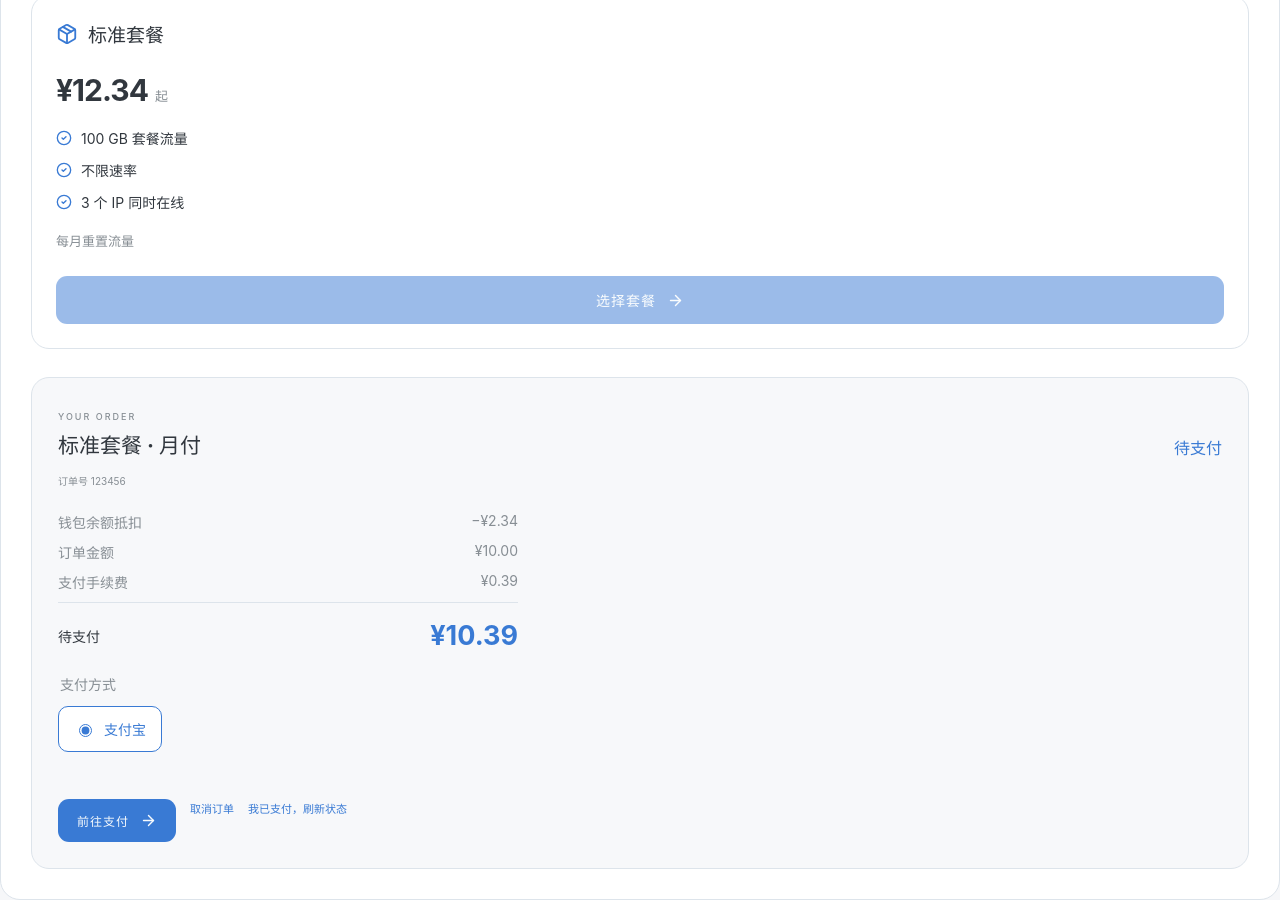
Test case: 打开支付页不视为成功，只有服务器已开通才同步权益
(page scrolled)
Click the button "前往支付".
click(117, 821)  # box [58,800,176,842]
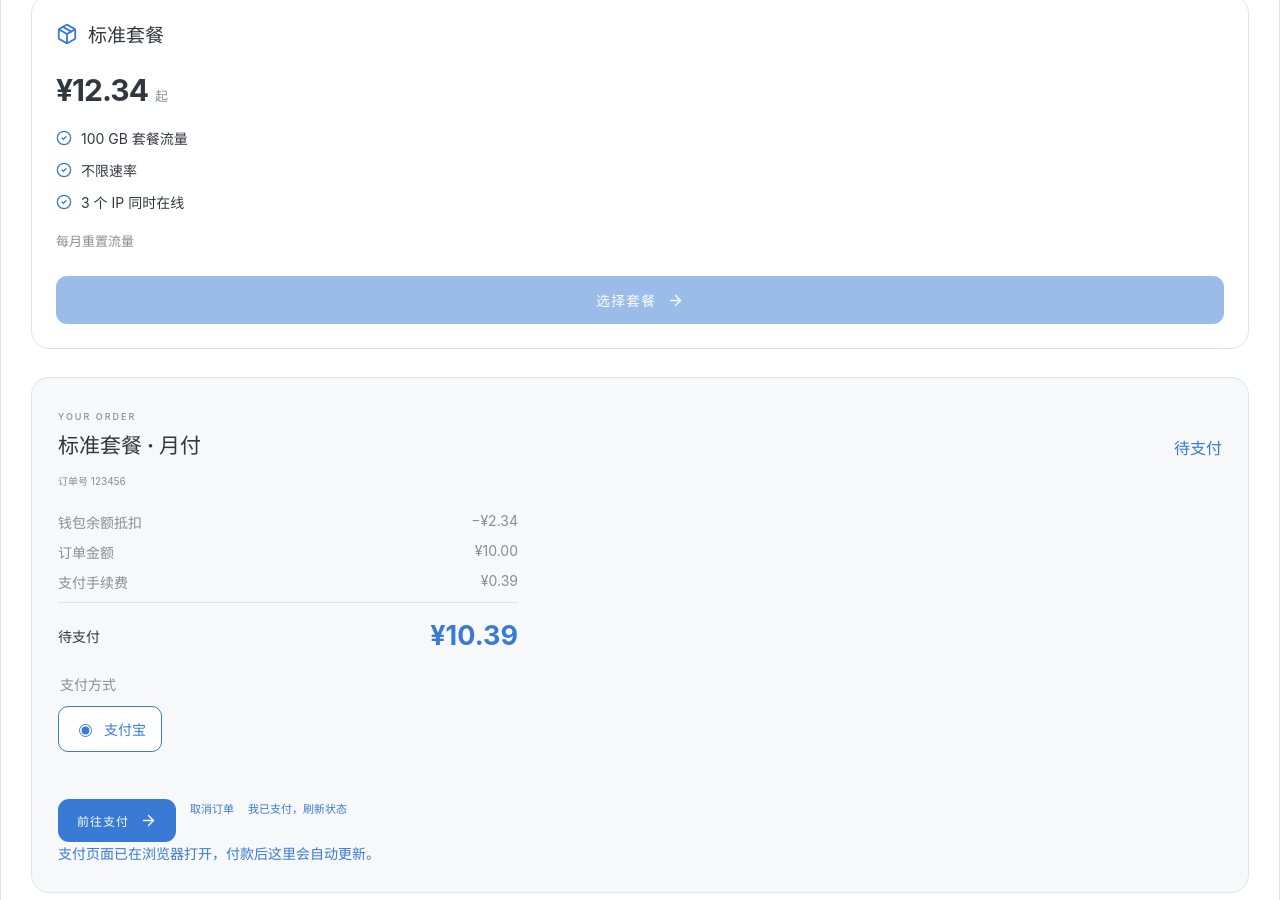
expect the text "支付页面已在浏览器打开，付款后这里会自动更新。" is shown: met, box [58,846,380,862]
Click the button "我已支付，刷新状态".
click(298, 808)  # box [248,786,347,830]
(page scrolled)
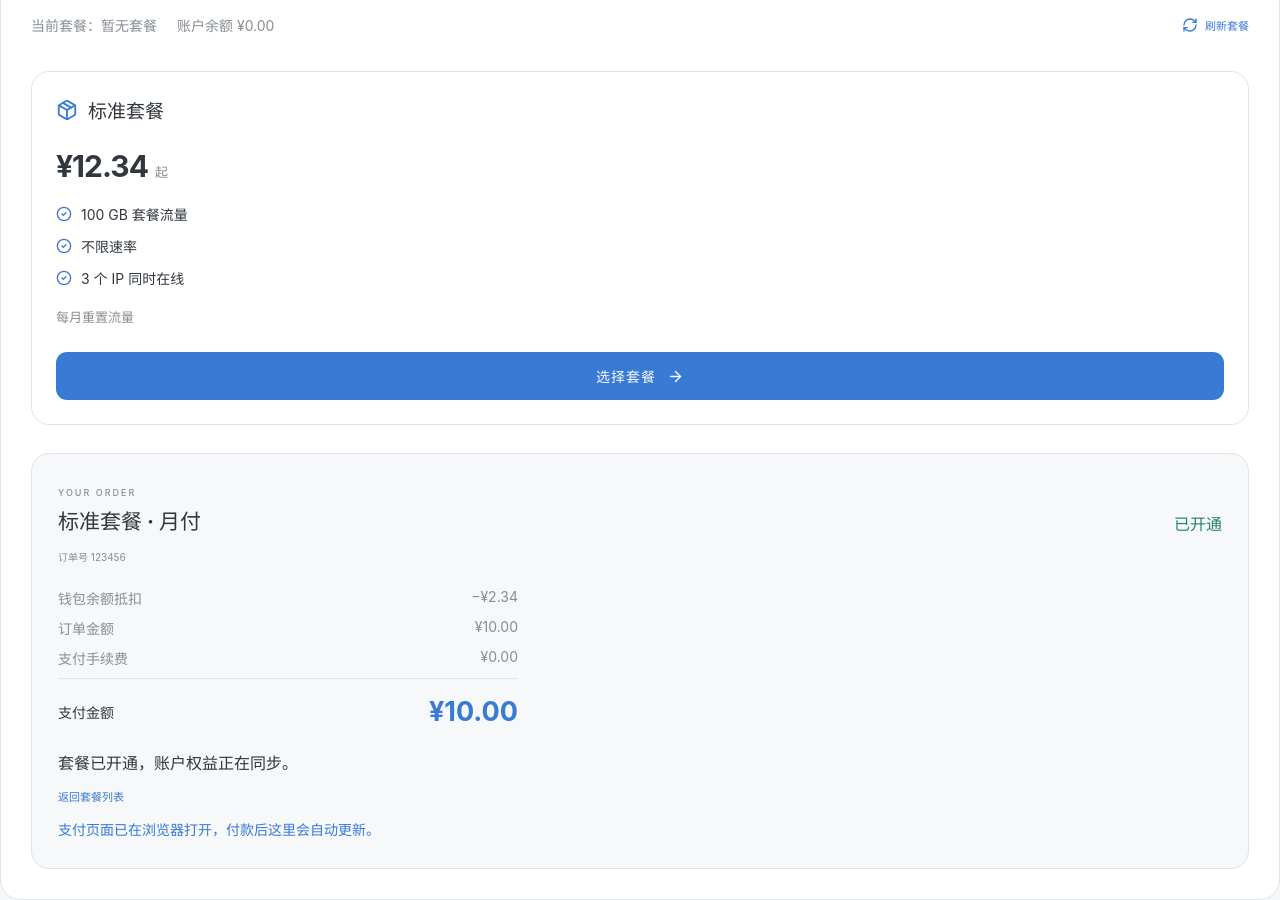
expect the text "已开通" is shown: met, box [1174,512,1222,536]
